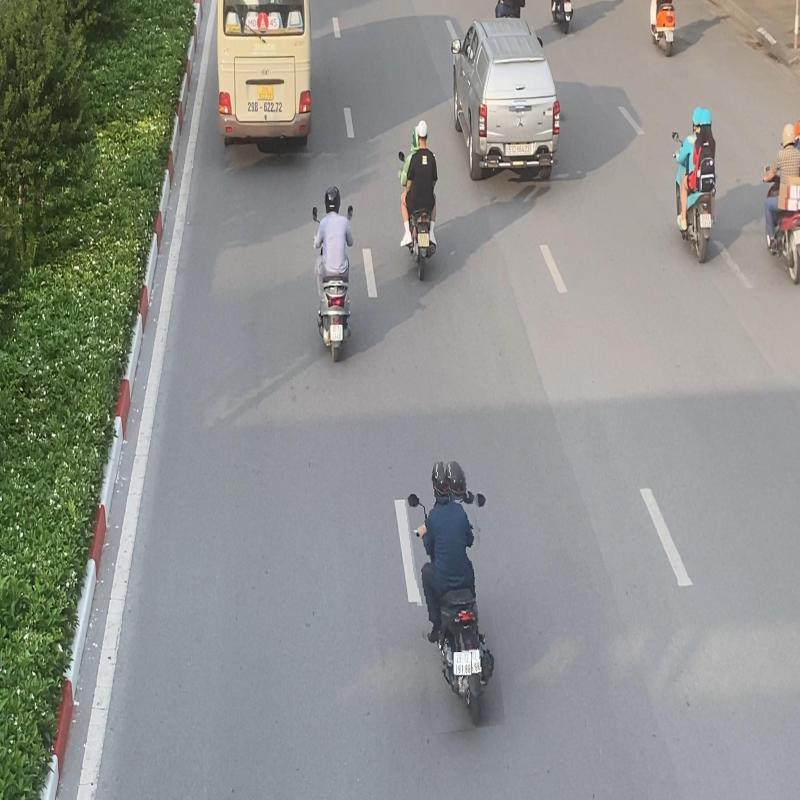helmet: (444, 460, 468, 500)
licenseplate: (453, 652, 472, 676)
motorcyclist: (408, 457, 497, 732)
